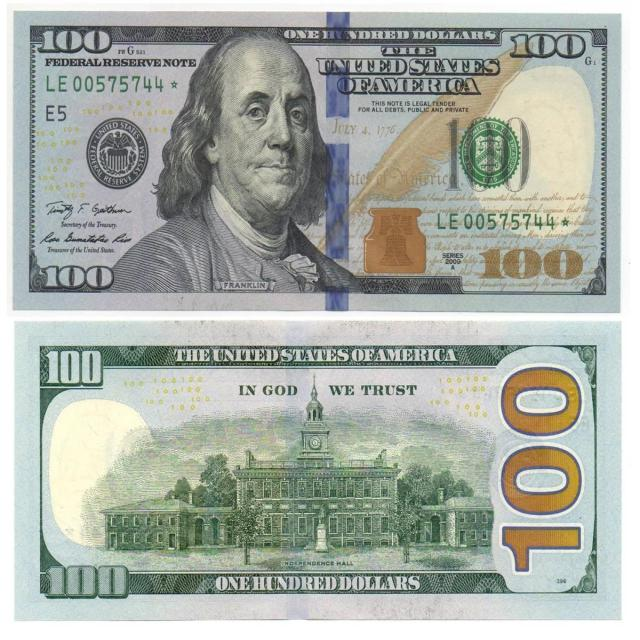100-Back: (15, 321, 620, 622)
100-Front: (14, 11, 621, 312)
